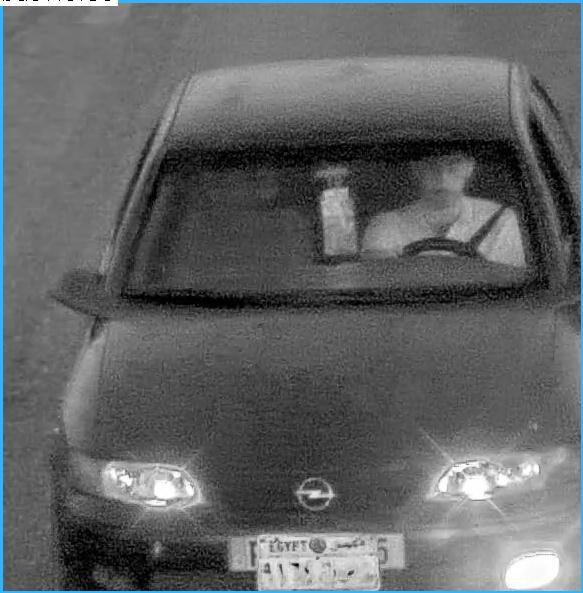windshield: (99, 125, 555, 322)
